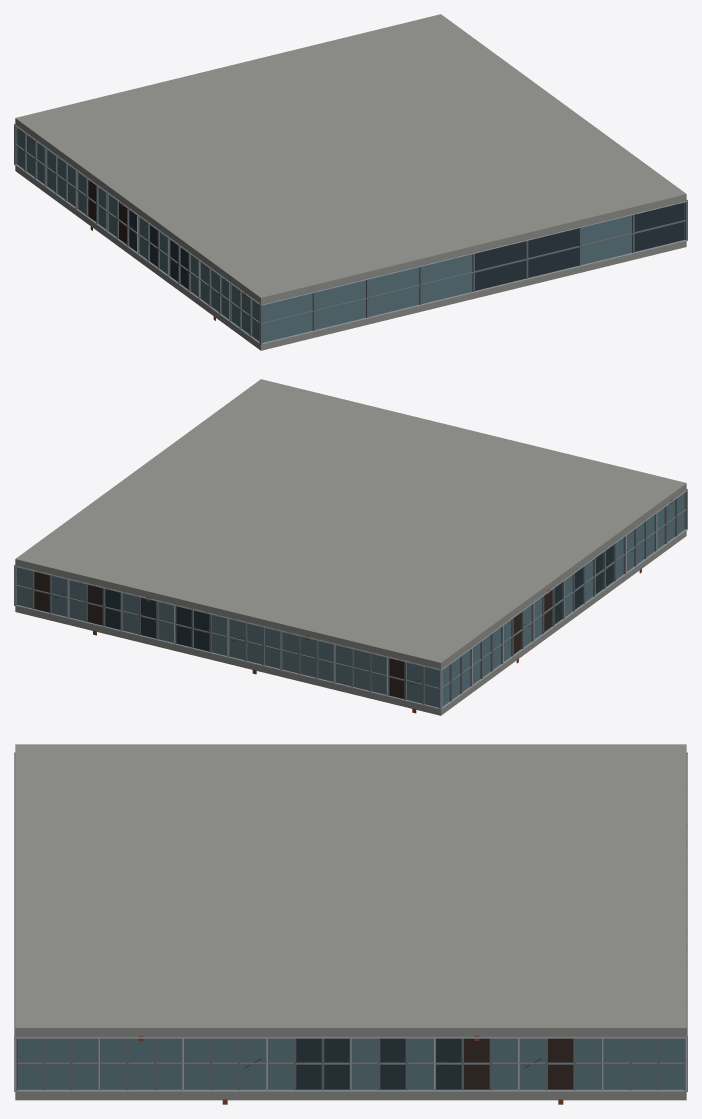
The model's file is tw_glass_32_floor.glb.
3 renders of one model, top to bottom at view 1: azimuth 30°, elevation 25°; view 2: azimuth 150°, elevation 25°; view 3: azimuth 270°, elevation 25°, orthographic. The views are drawn at different scales.
Parts seen in each view (by area): view 1: tw_glass_32_floor; view 2: tw_glass_32_floor; view 3: tw_glass_32_floor.
Part boxes in pixels (x1=…): tw_glass_32_floor: x1=14, y1=14, x2=687, y2=350; tw_glass_32_floor: x1=14, y1=379, x2=687, y2=715; tw_glass_32_floor: x1=14, y1=744, x2=687, y2=1104.
Size of the model in its own units: 32.14 by 4.05 by 32.14.
Materials: 3 (3 with a texture image).
